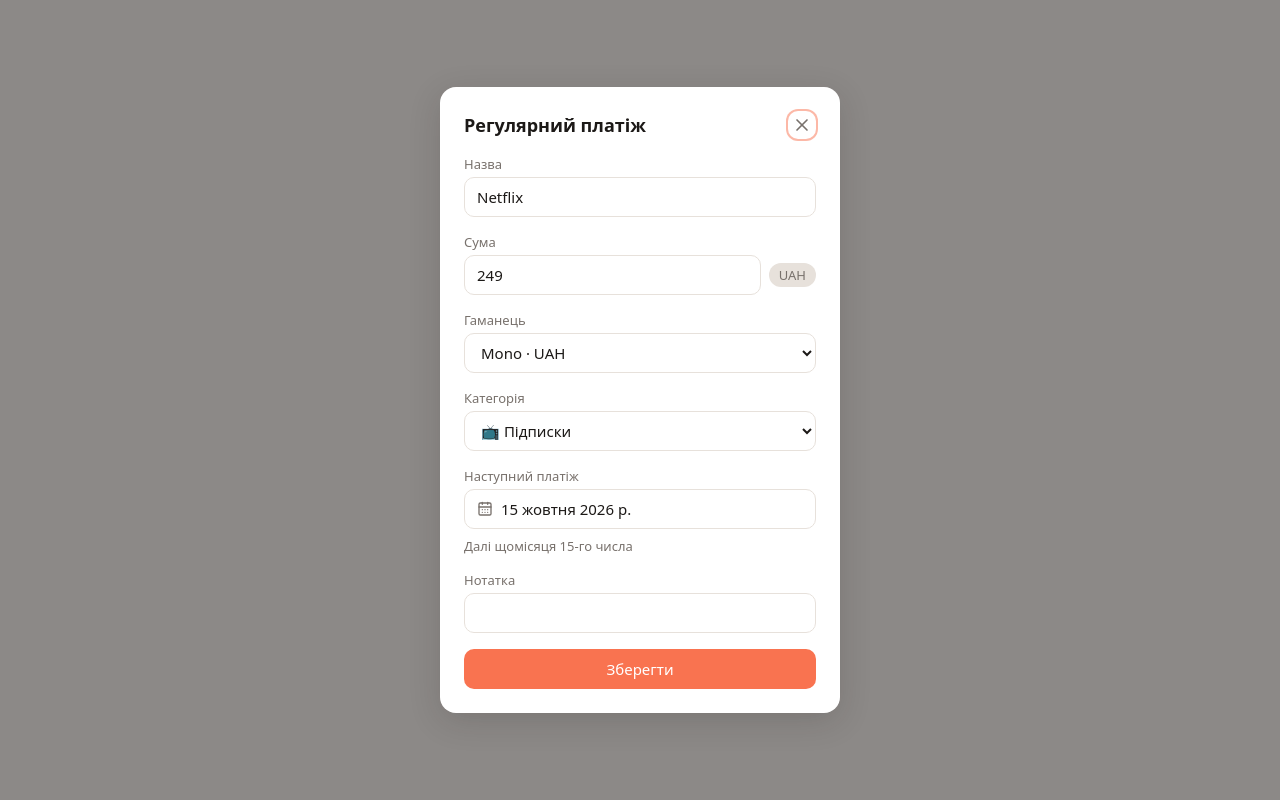
Test case: RecurringDialog › says so when a rule's hidden end date comes before the picked date
What coordinates should you click on to do the following:
click the button with aria-label "Наступний платіж"
I would click on:
 (566, 509)
Its box is left=464, top=489, right=816, bottom=529.
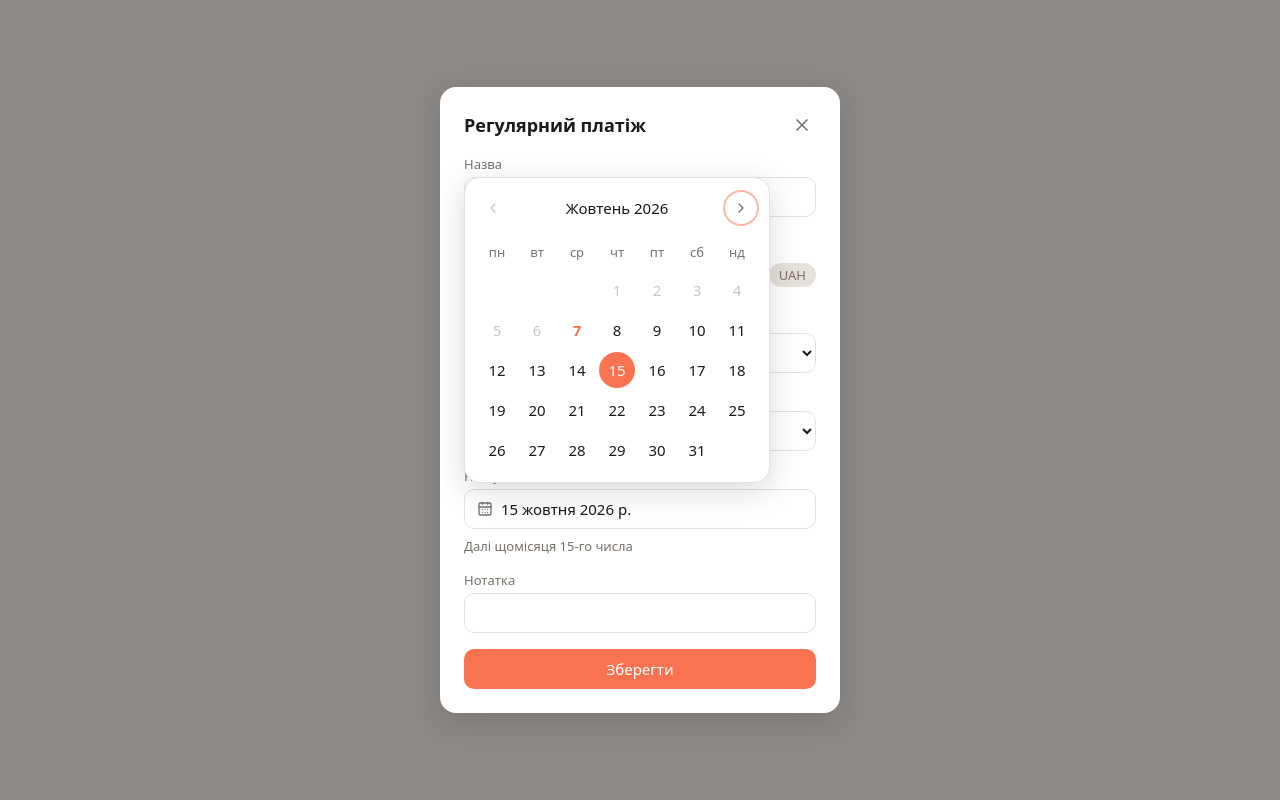
What coordinates should you click on to do the following:
click the button named "Наступний місяць"
I would click on:
 (741, 208)
Its box is left=725, top=192, right=757, bottom=224.
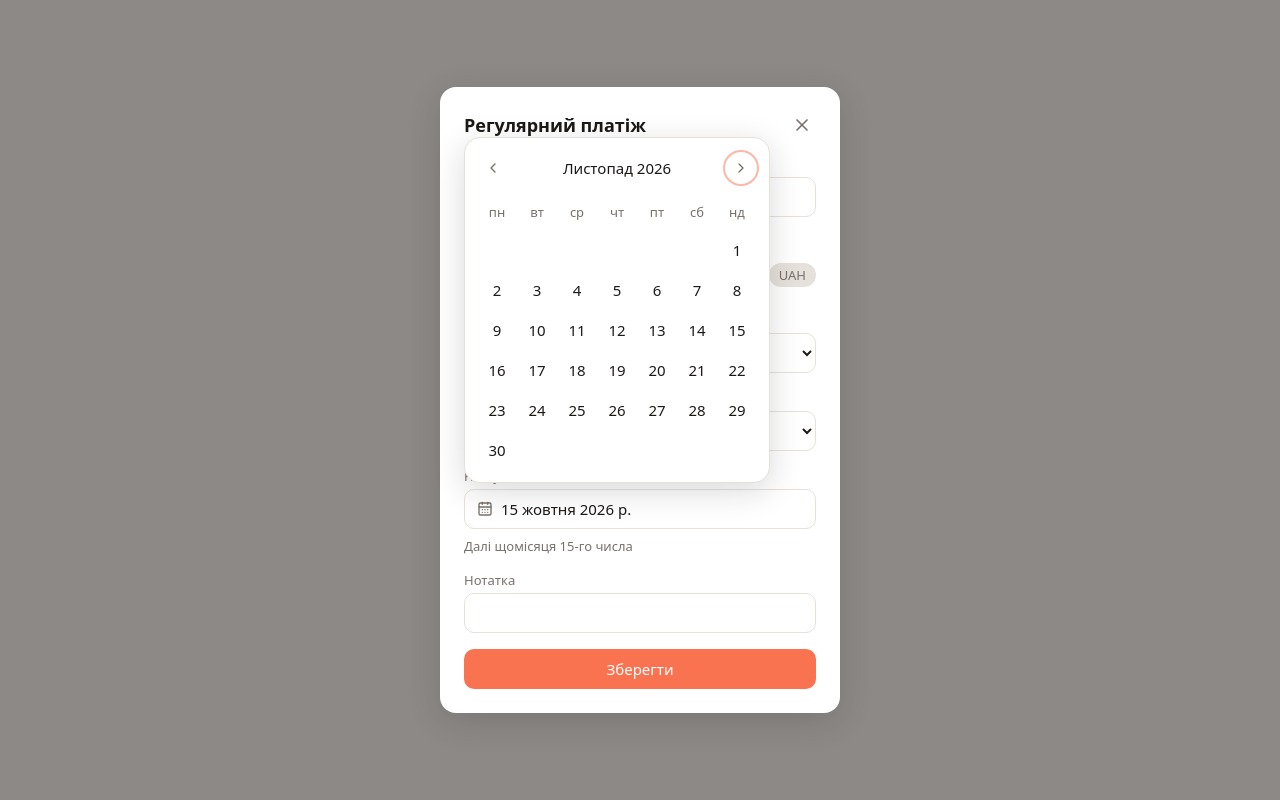
What coordinates should you click on to do the following:
click the button named "Наступний місяць"
I would click on:
 (741, 168)
Its box is left=725, top=152, right=757, bottom=184.
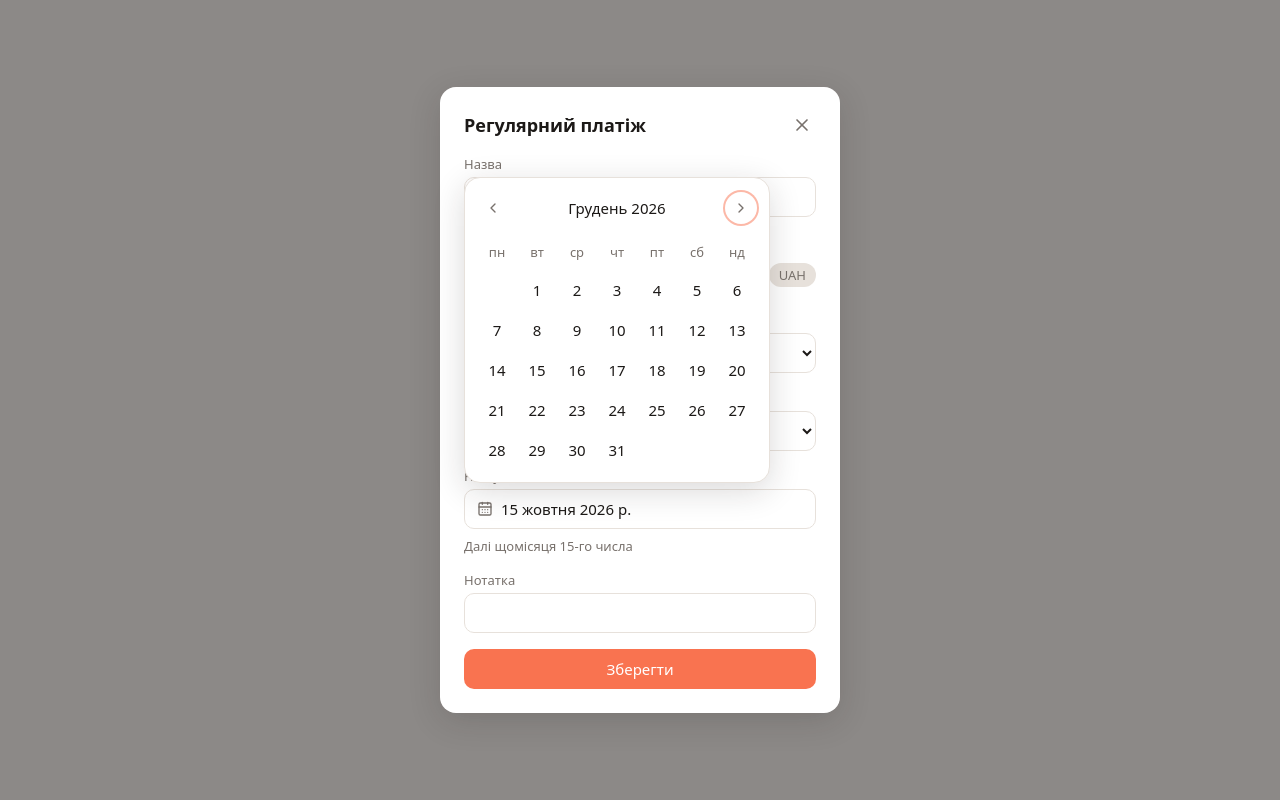
What coordinates should you click on to do the following:
click the button named "Наступний місяць"
I would click on:
 (741, 208)
Its box is left=725, top=192, right=757, bottom=224.
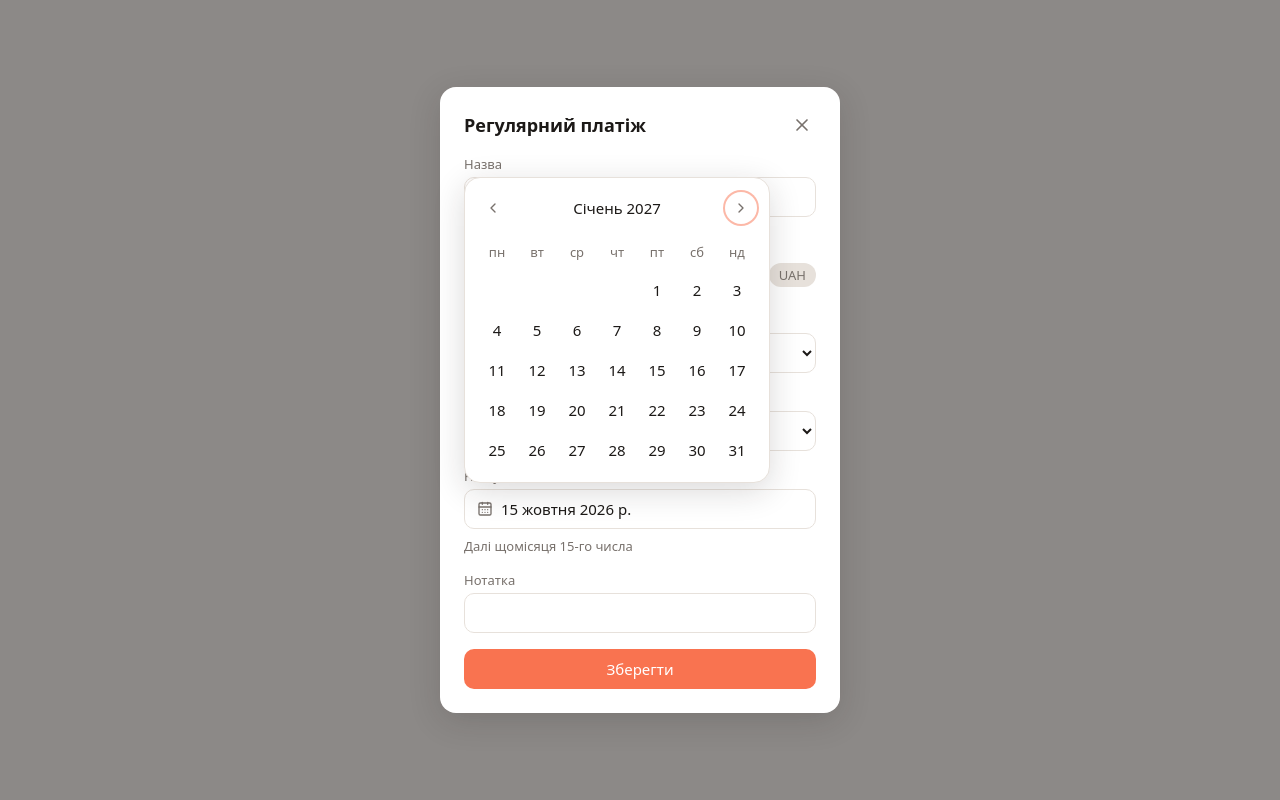
What coordinates should you click on to do the following:
click the button "10"
I would click on:
 (737, 330)
Its box is left=719, top=312, right=755, bottom=348.
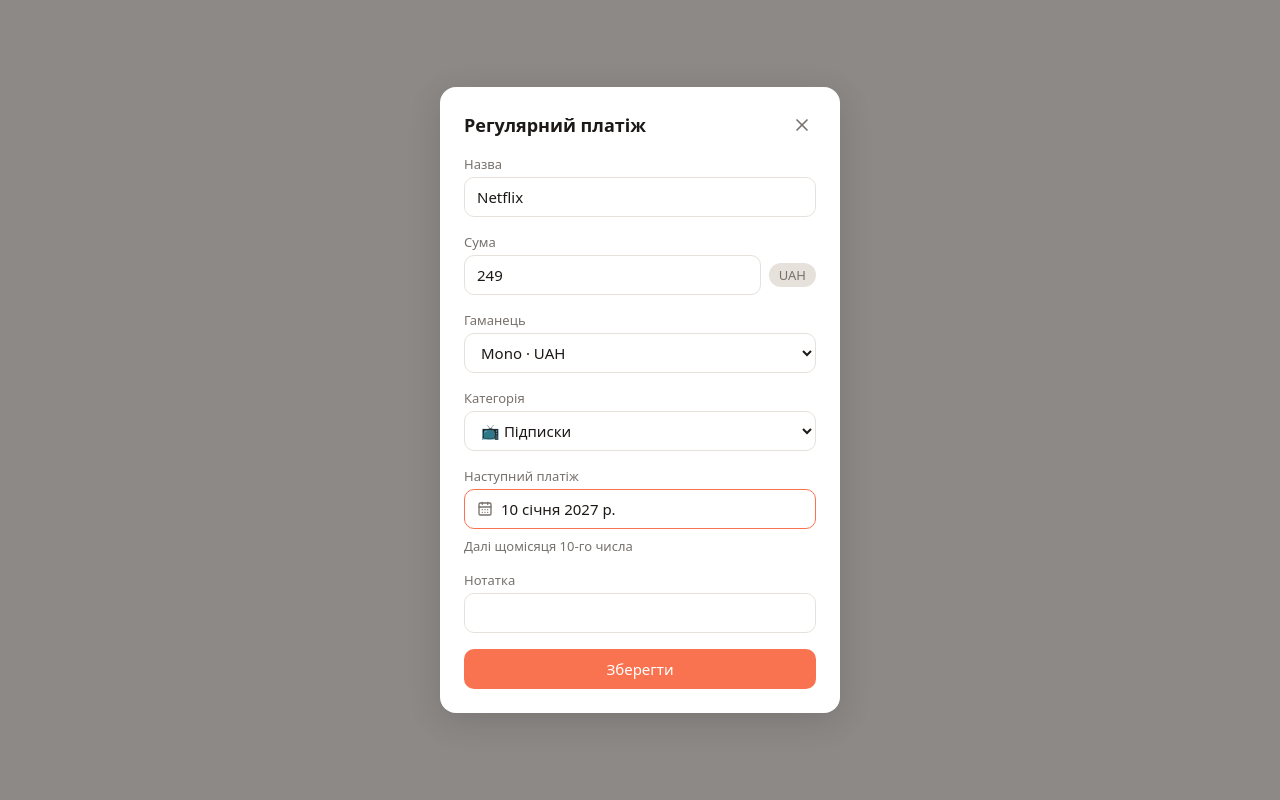
What coordinates should you click on to do the following:
click the button "Зберегти"
I would click on:
 (640, 669)
Its box is left=464, top=649, right=816, bottom=689.
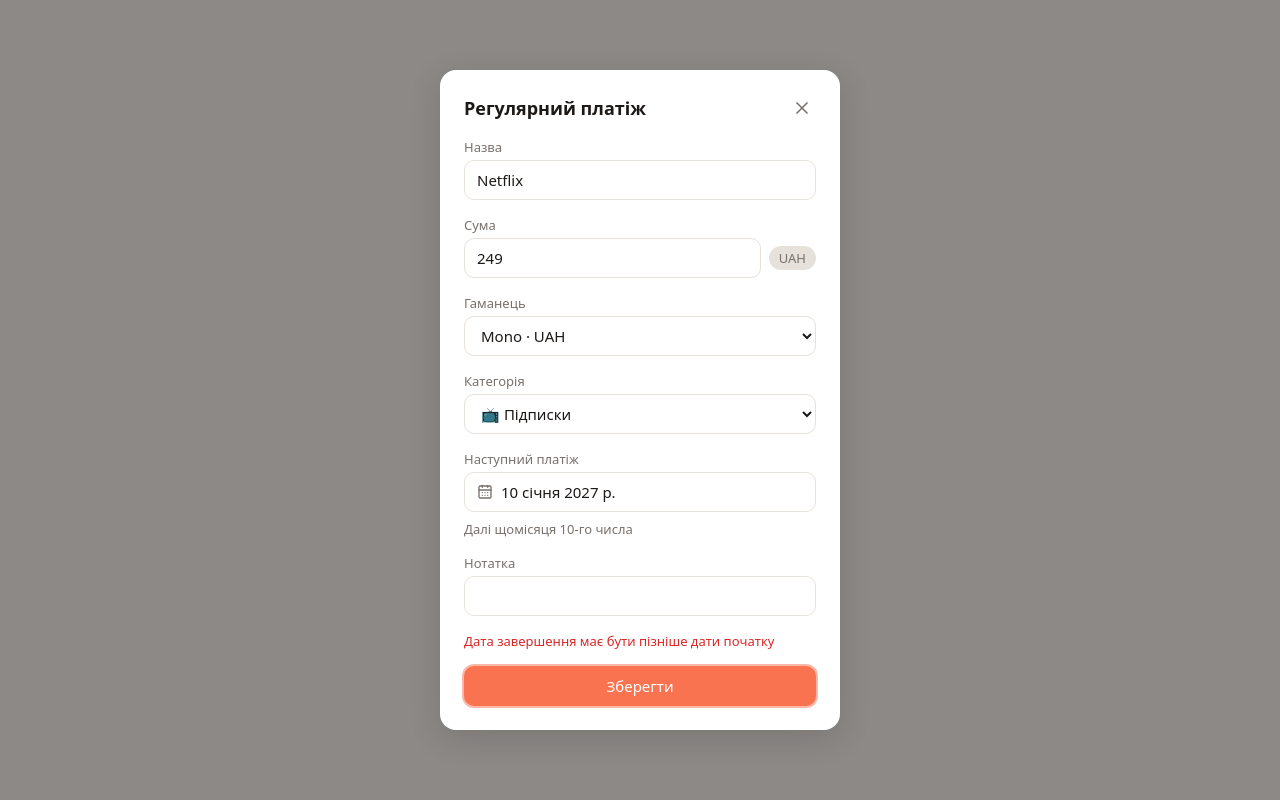
Expected: the message reads "Дата завершення має бути пізніше дати початку", left=464, top=632, right=774, bottom=650
